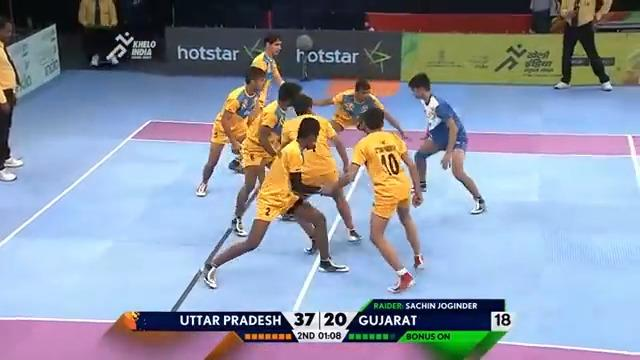Player: (202, 116, 349, 288), (331, 107, 425, 293), (277, 93, 364, 245), (230, 81, 302, 237), (195, 66, 268, 196), (228, 33, 286, 173), (310, 77, 407, 140), (0, 15, 24, 181), (248, 32, 286, 110)
Raider: (407, 72, 486, 214)
referee: (552, 0, 613, 91), (527, 0, 555, 33)
